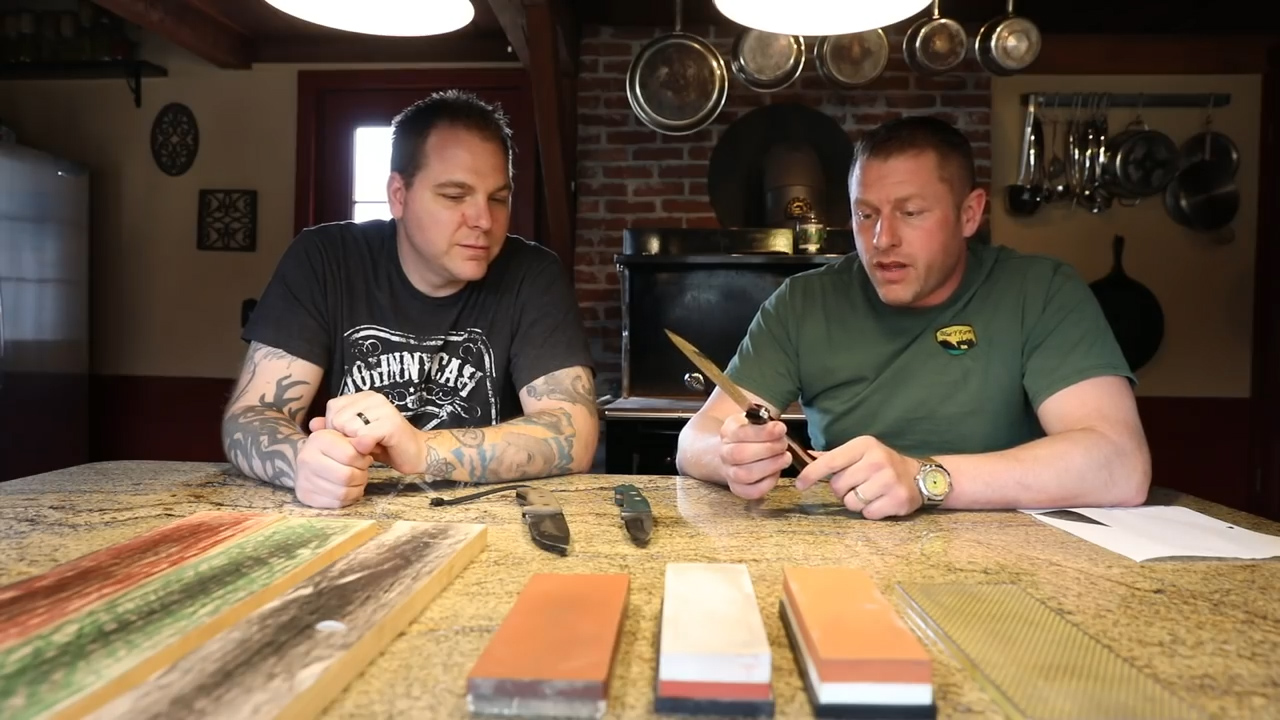knife: (653, 311, 799, 468)
